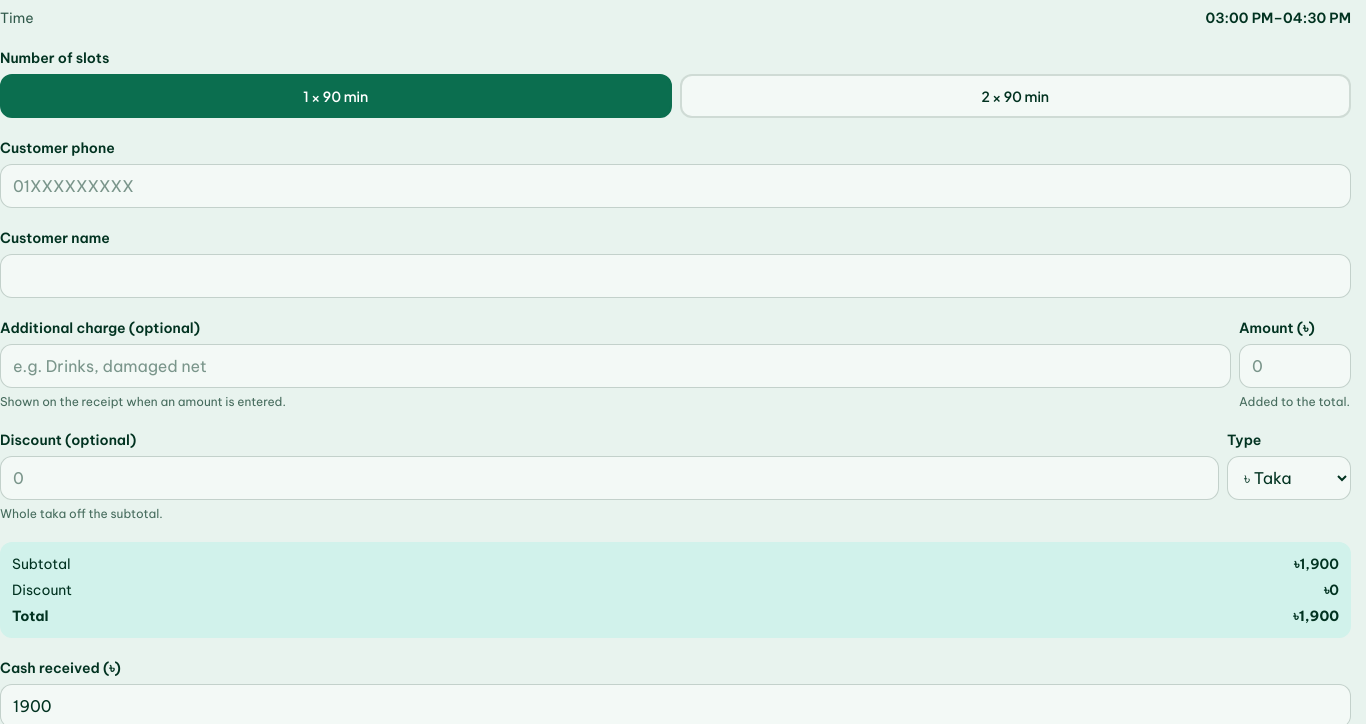
Test: WalkInForm: no advance › more than the total is refused in the form
In the field labelled "Customer phone": (676, 186) [0,164,1351,208], type "01733334444"
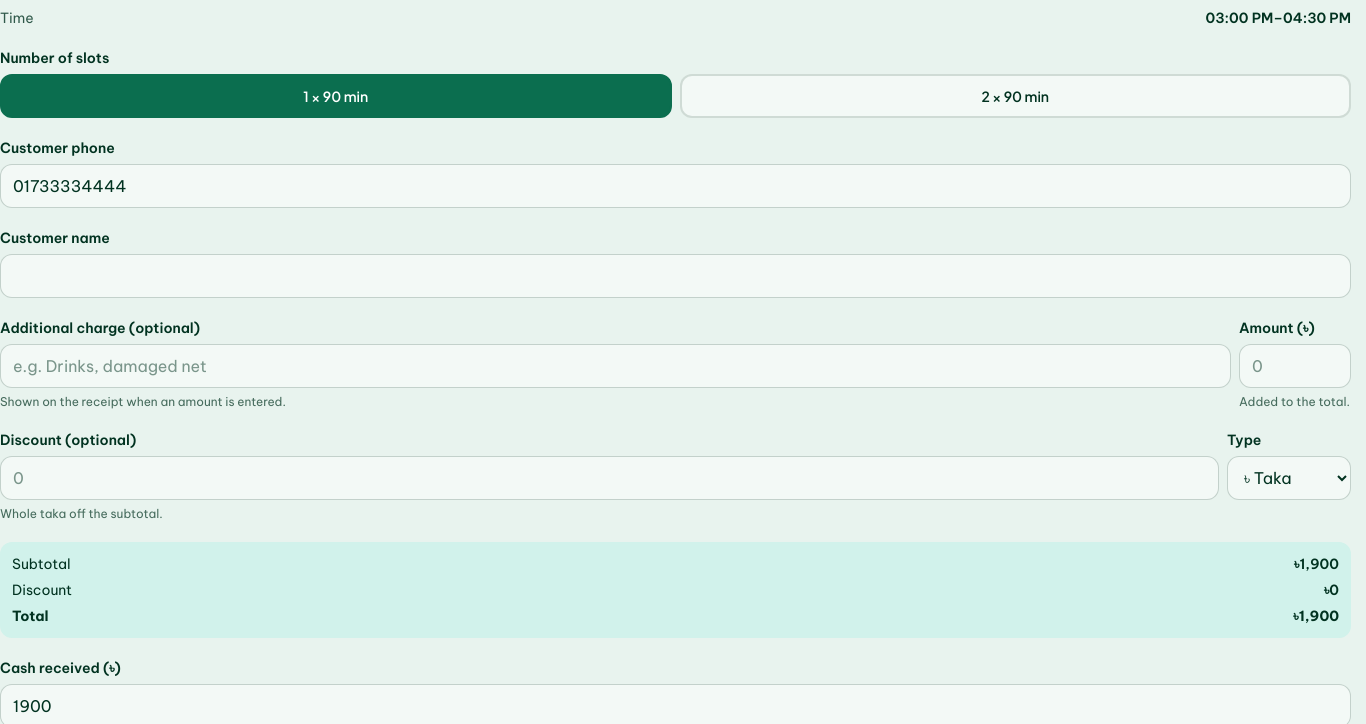
In the field labelled "Customer name": (676, 276) [0,254,1351,298], type "Karim"
(page scrolled)
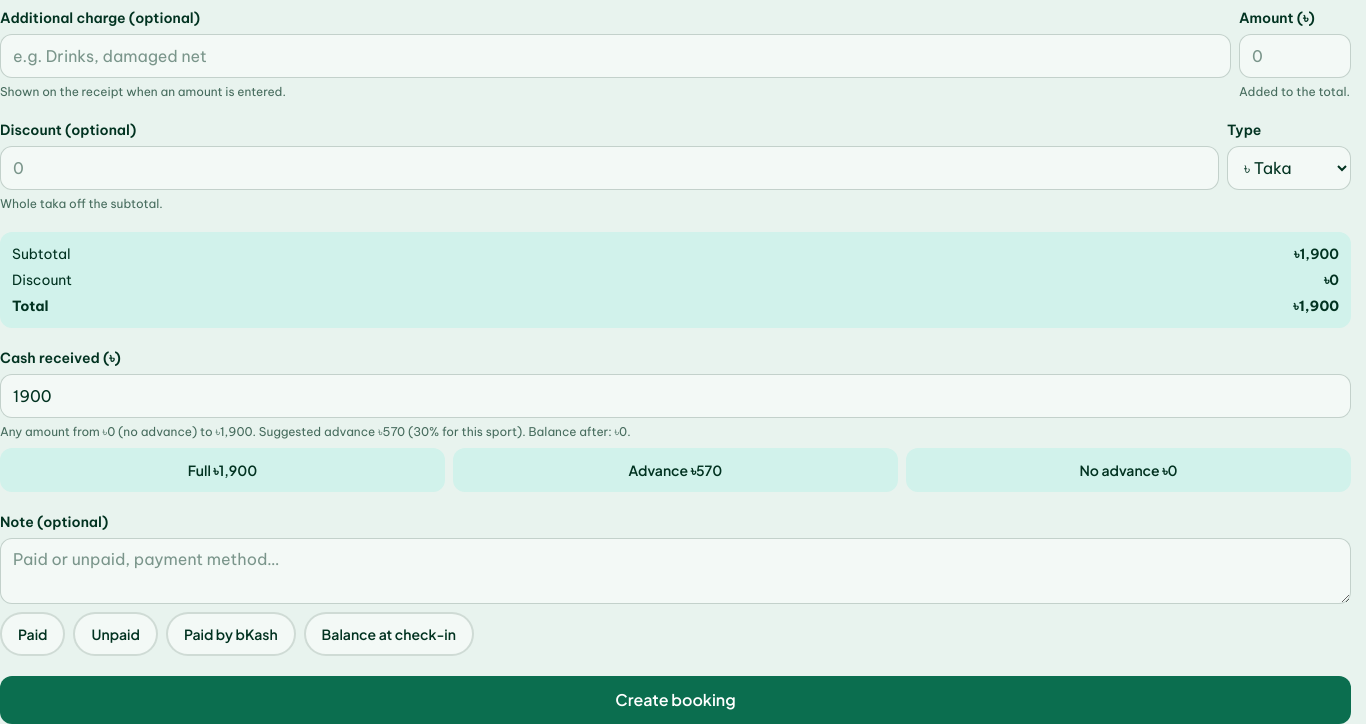
Replace the text in the number field labelled "Cash received (৳)" with "2000": (676, 396) [0,374,1351,418]
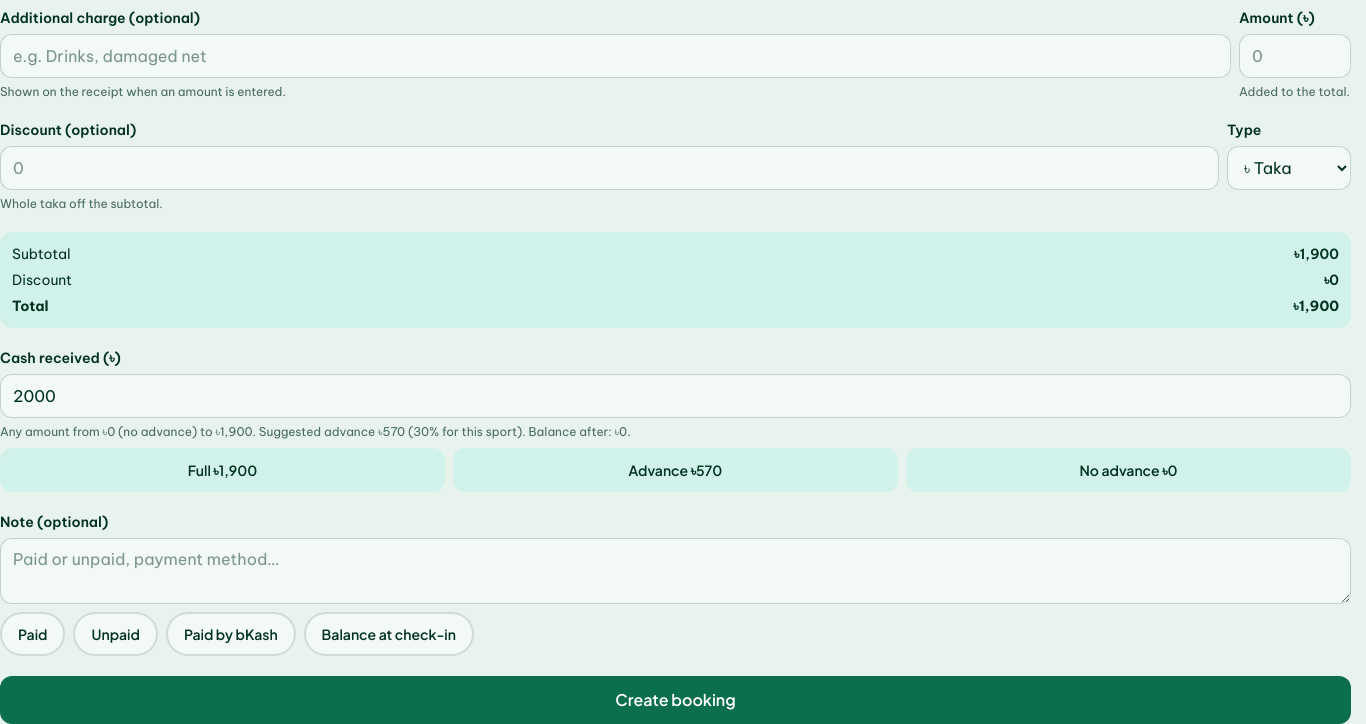
Click the button "Create booking": (676, 700) [0,676,1351,723]
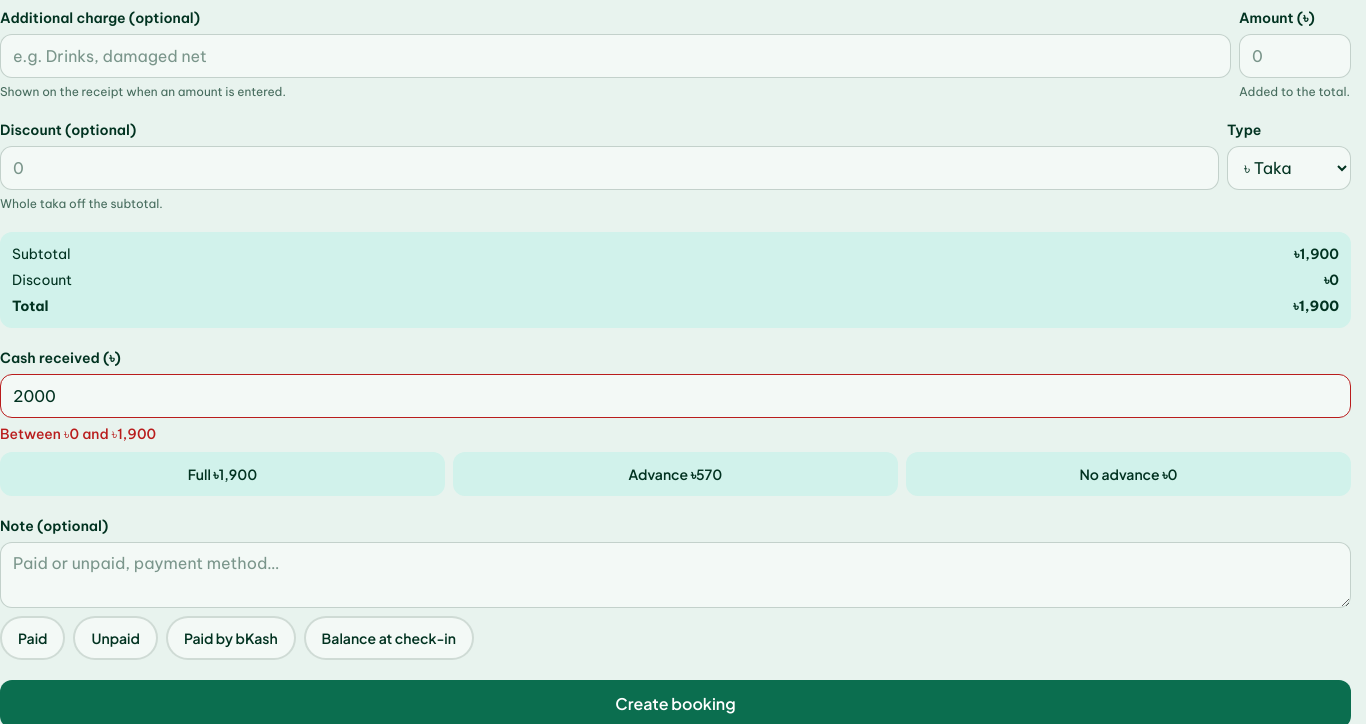
Expected: the text "Between ৳0 and ৳1,900" is shown, [0,425,156,443]
